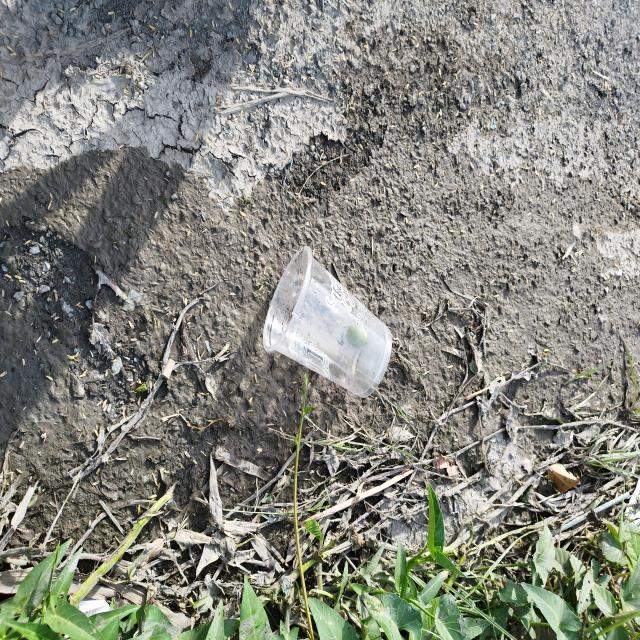plastic glass: (262, 245, 393, 399)
